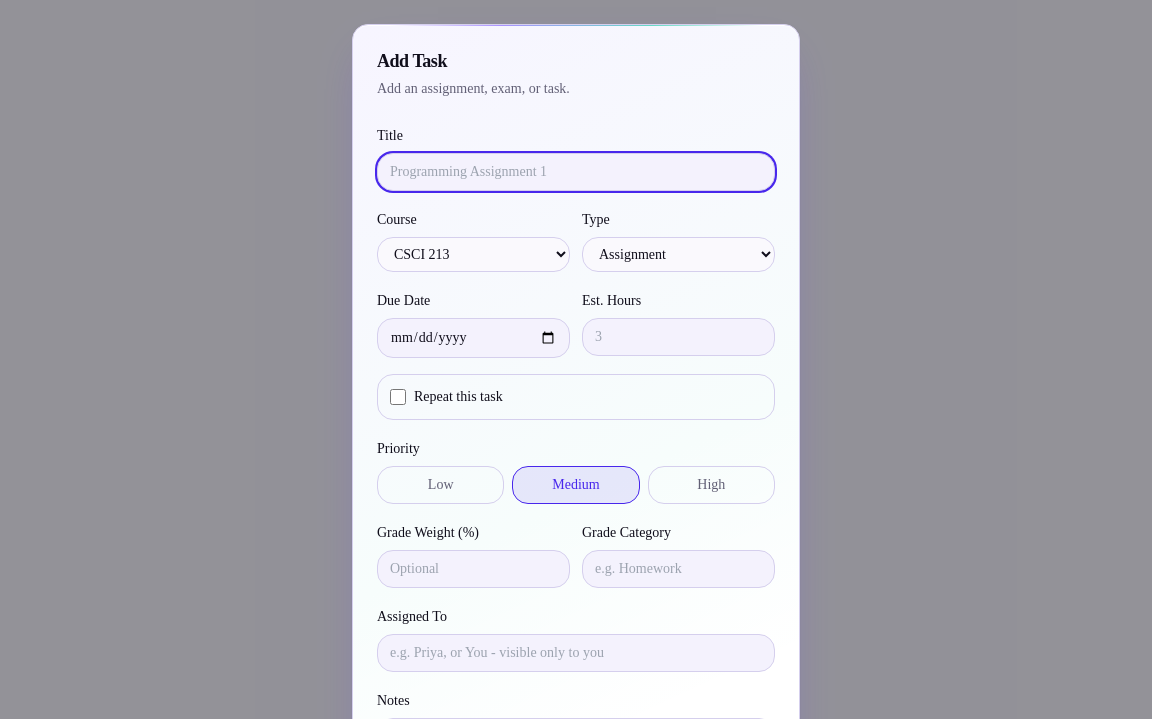
Scenario: TaskFormModal › rejects a negative estimated-hours value
The image size is (1152, 719).
In the field labelled "Title": {"x": 576, "y": 172} [377, 153, 775, 191], type "Reading"
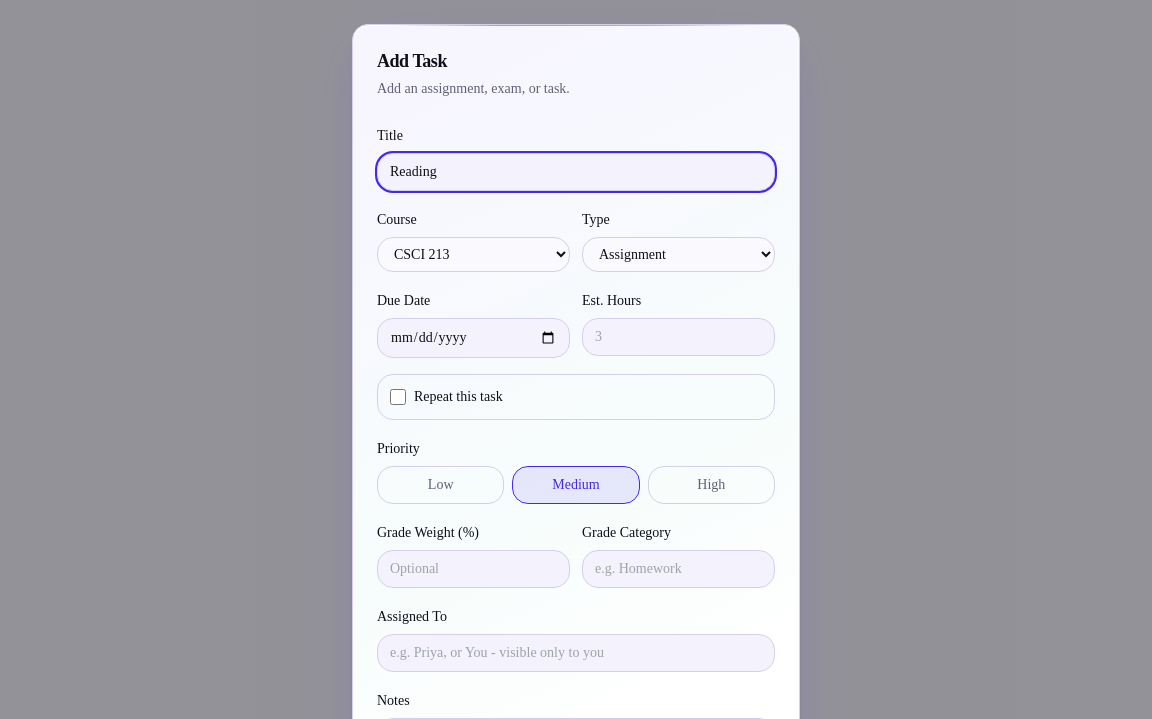
In the date field labelled "Due Date": {"x": 474, "y": 338} [377, 318, 570, 358], type "2026-09-01"
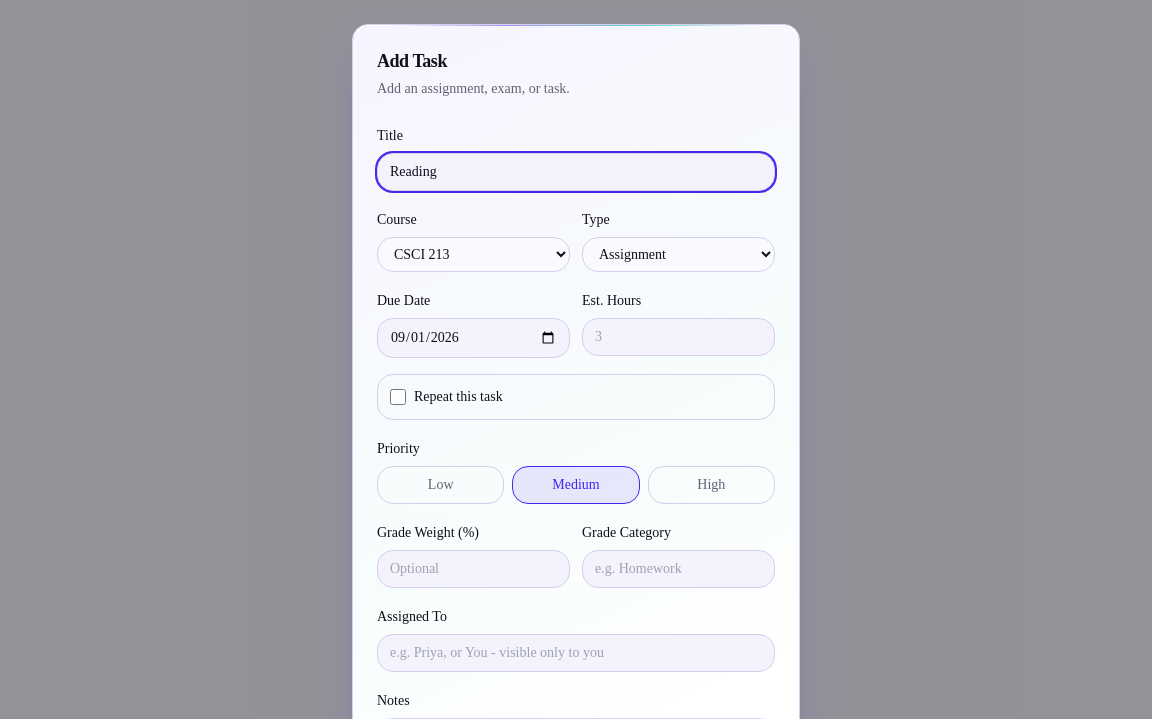
In the number field labelled "Est. Hours": {"x": 678, "y": 337} [582, 318, 775, 356], type "-3"
(page scrolled)
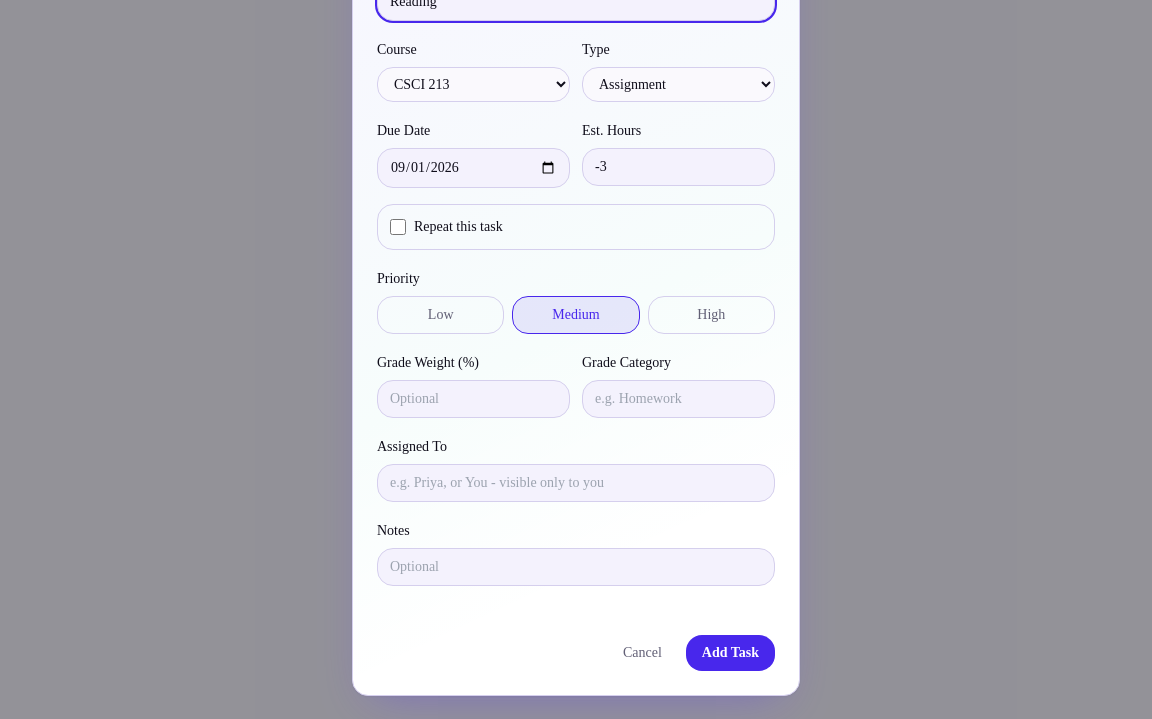
Click the button "Add Task": {"x": 730, "y": 653} [686, 635, 775, 671]
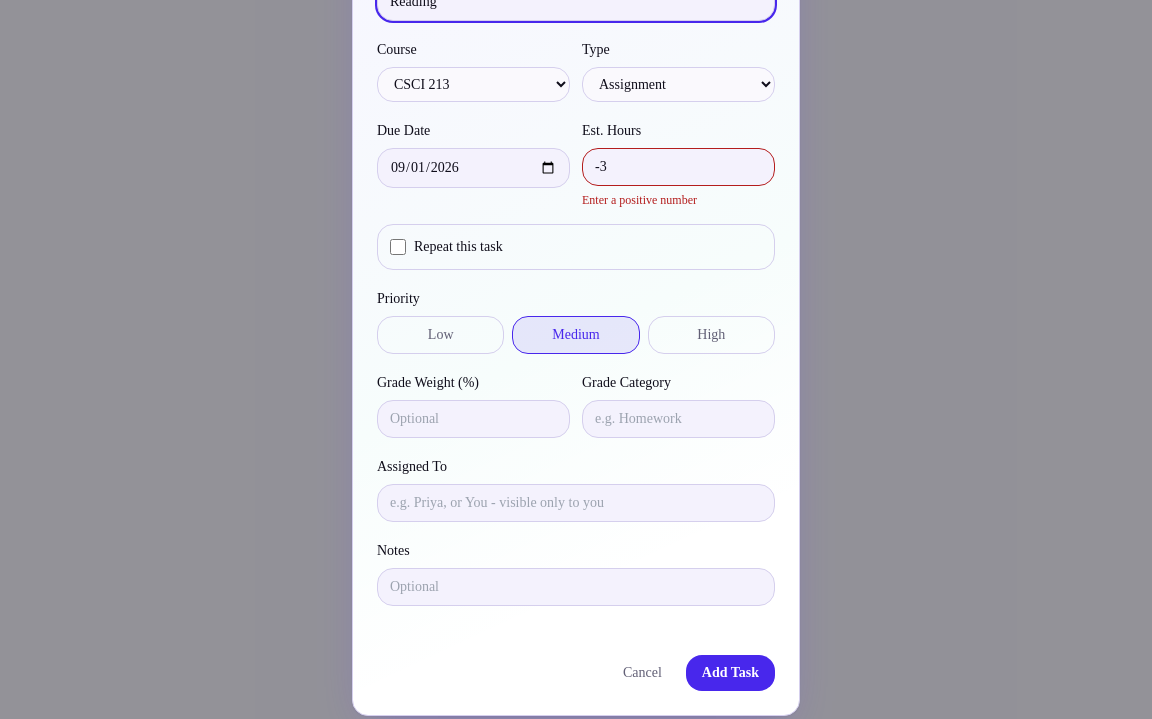
Result: the text "Enter a positive number" is shown at [582, 193, 697, 207]
